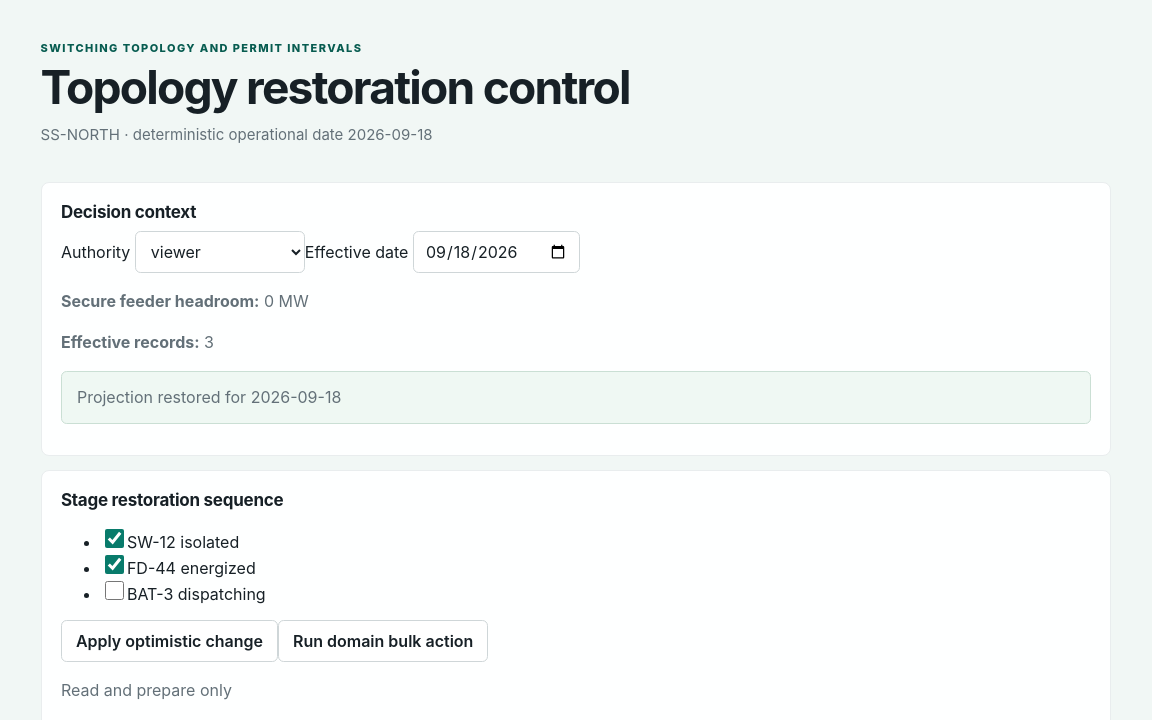
Topology restoration control › shows permission behavior and partial recovery in the UI
The width and height of the screenshot is (1152, 720).
Select "control approver" in the dropdown labelled "Authority". click: (220, 252)
box: [135,231,305,273]
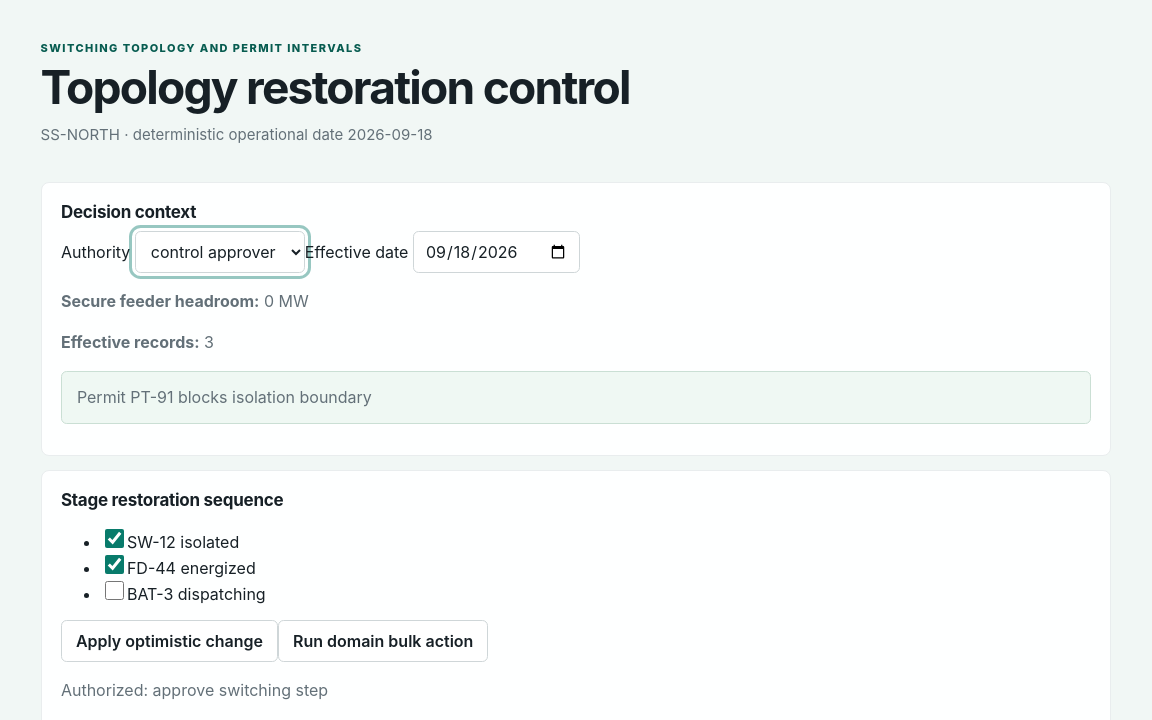
Click the button "Run domain bulk action". click: (383, 641)
box: [278,620,488,662]
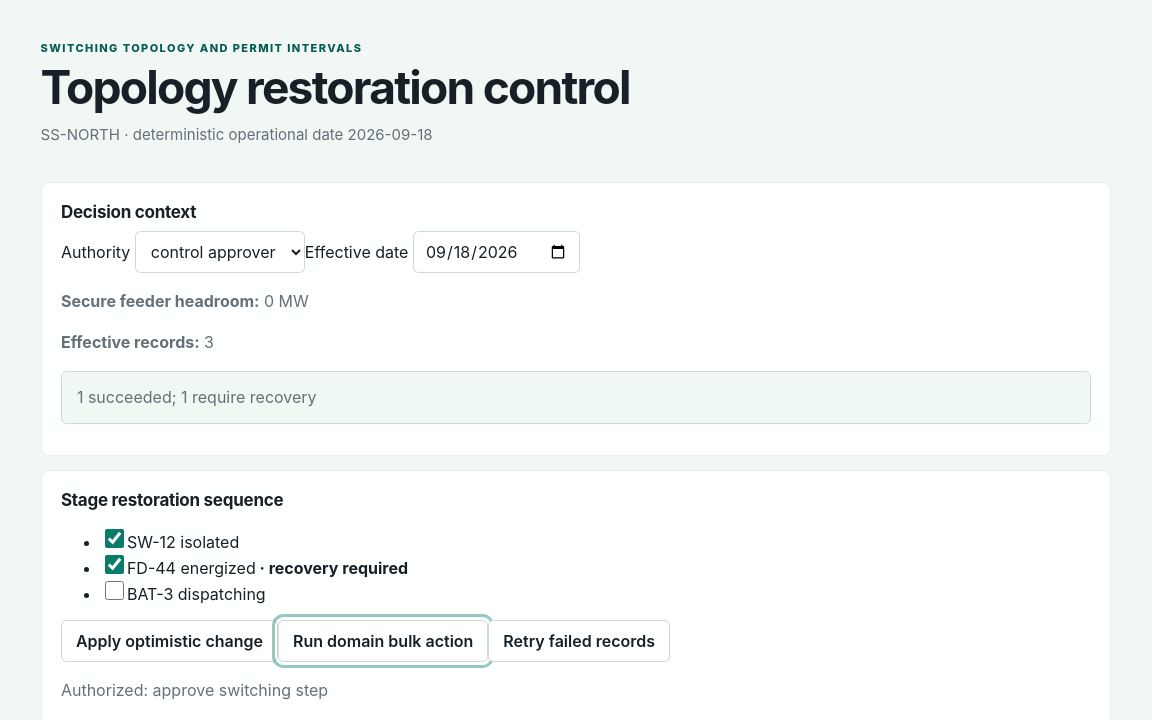
Now the message reads "1 succeeded; 1 require recovery", box [77,387,317,407]
Now the text "· recovery required" is shown, box [256,558,408,578]
Now the button "Retry failed records" is shown, box [488,620,670,662]
